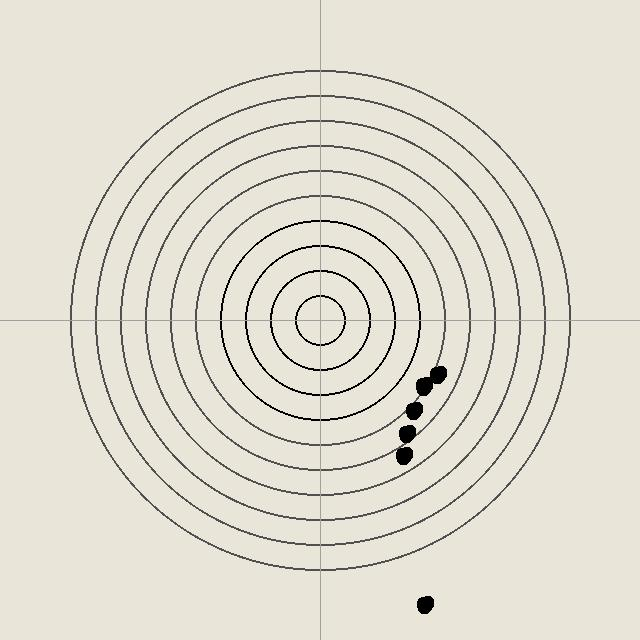vertical_scatter: (403, 400, 423, 420), (396, 423, 416, 443), (414, 594, 434, 614), (413, 375, 433, 395), (413, 376, 433, 396), (427, 364, 447, 384), (393, 445, 413, 465)
